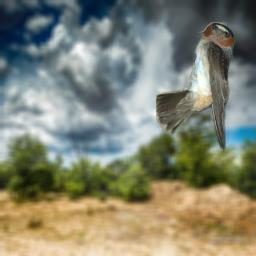Swallow: (156, 22, 235, 152)
